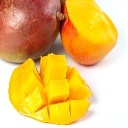mango: (8, 53, 92, 127), (58, 1, 119, 65)
